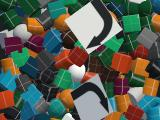Right: (64, 0, 122, 54), (70, 73, 113, 120)
